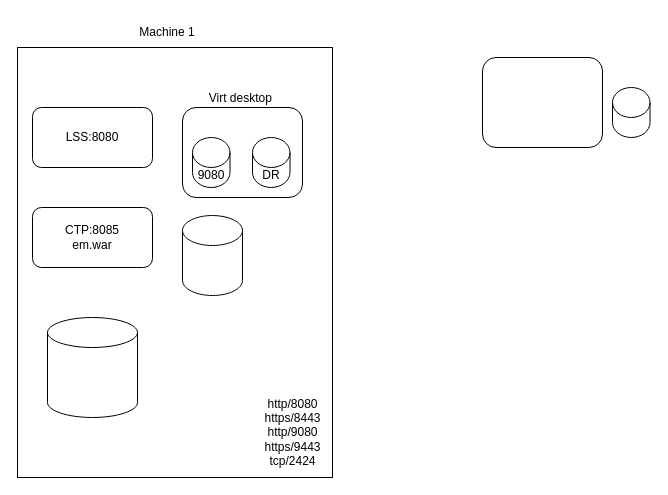
Image size: 668x495. Some labels were removed from this diagram. Here are the shapes that lost their labels. From the top down, the centre of each, then its label:
the point at 542,102: Virt Desktop 2
the point at 212,255: DR:2424
the point at 92,367: SOAVirt Server soavirt.war
